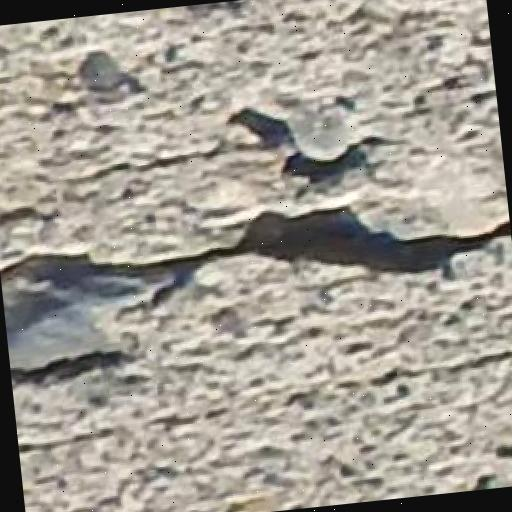spalling: (5, 165, 510, 411)
